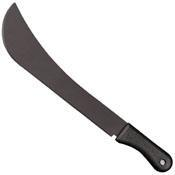facao: (3, 3, 171, 172)
